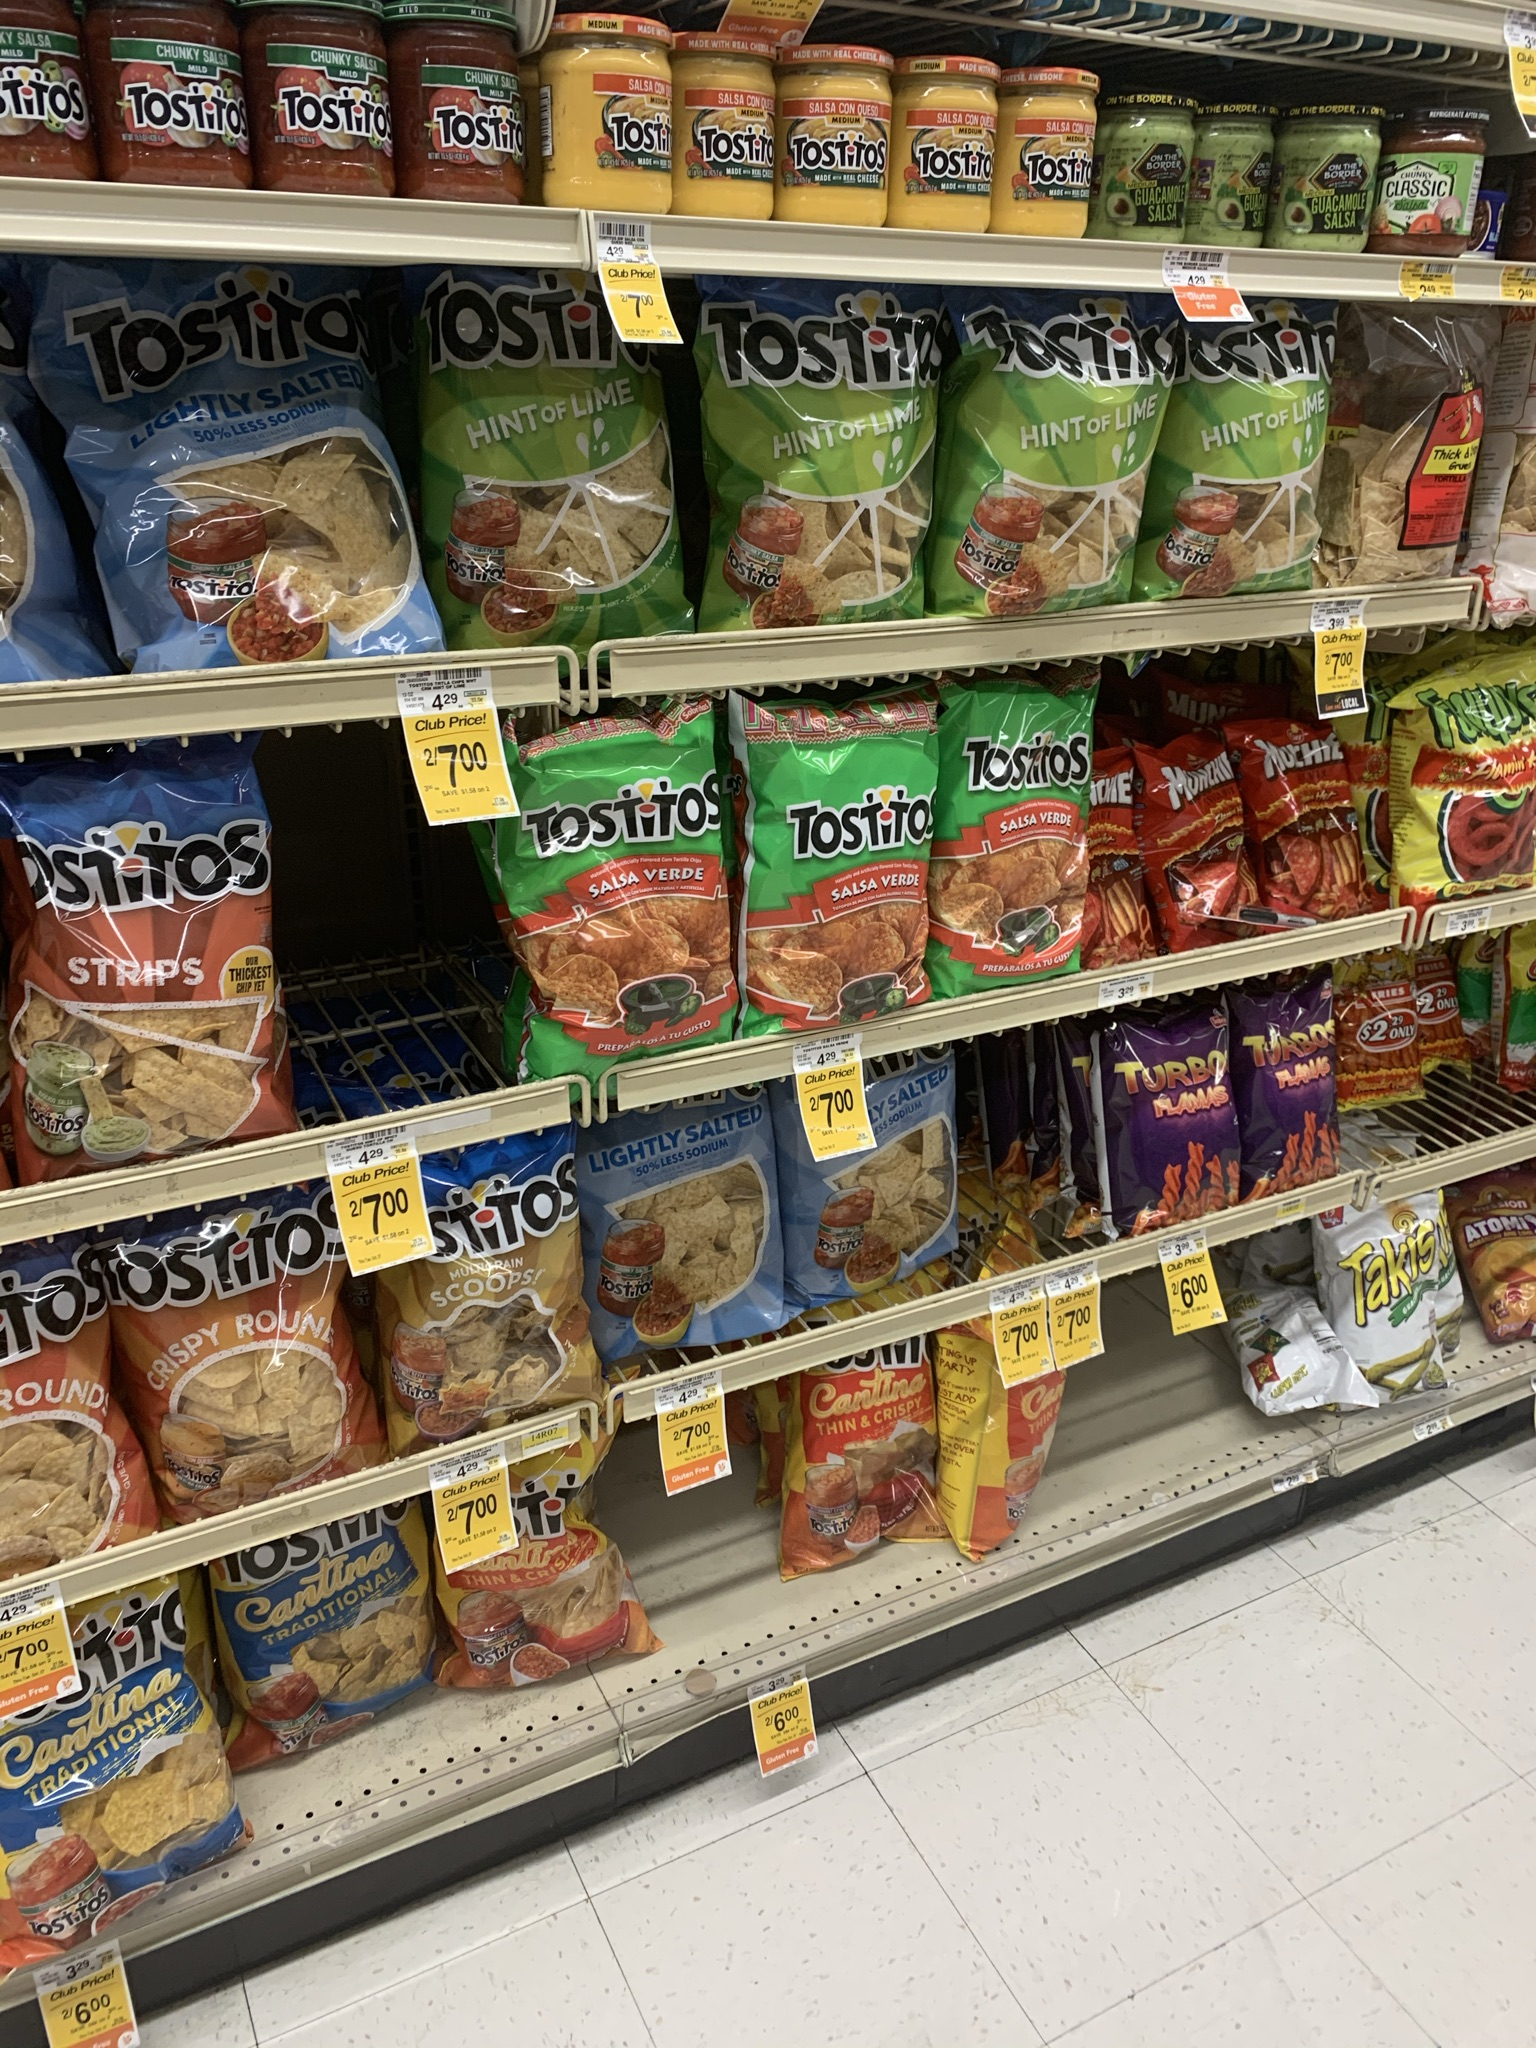chip: (63, 256, 424, 664), (405, 264, 699, 653), (2, 755, 265, 1171), (470, 735, 726, 1085), (692, 277, 931, 643), (720, 668, 933, 1021), (3, 1576, 190, 1953), (954, 287, 1152, 634), (152, 1184, 344, 1535), (374, 1161, 592, 1432), (573, 1105, 791, 1359), (1158, 298, 1333, 608), (928, 684, 1091, 984), (784, 1064, 965, 1287), (1092, 1006, 1241, 1227), (1397, 648, 1536, 877), (1133, 743, 1263, 953), (1233, 710, 1359, 921), (1338, 948, 1433, 1127)
